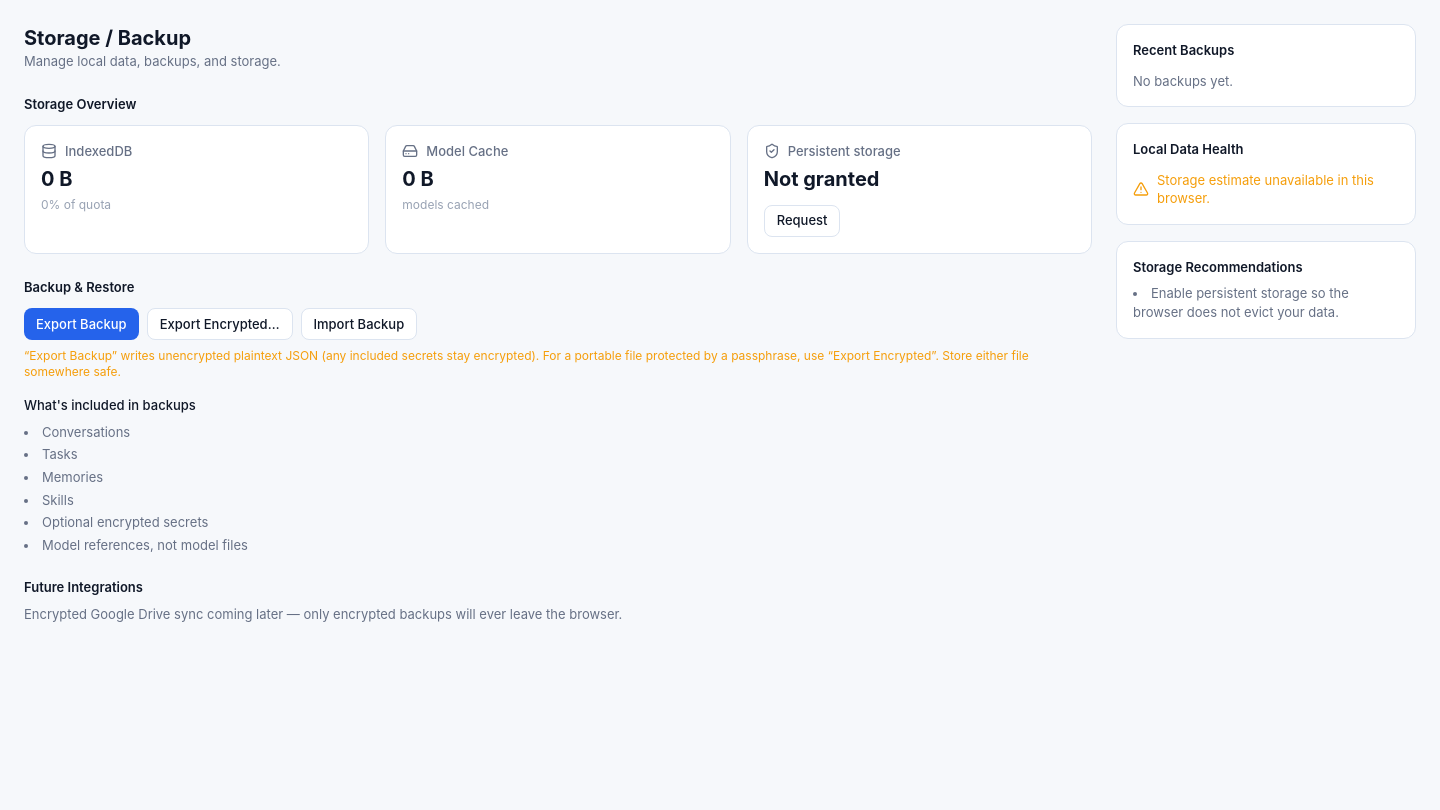
Test: StorageScreen › exports a backup over Dexie
Click the button "Export Backup": (81, 324) [24, 308, 139, 340]
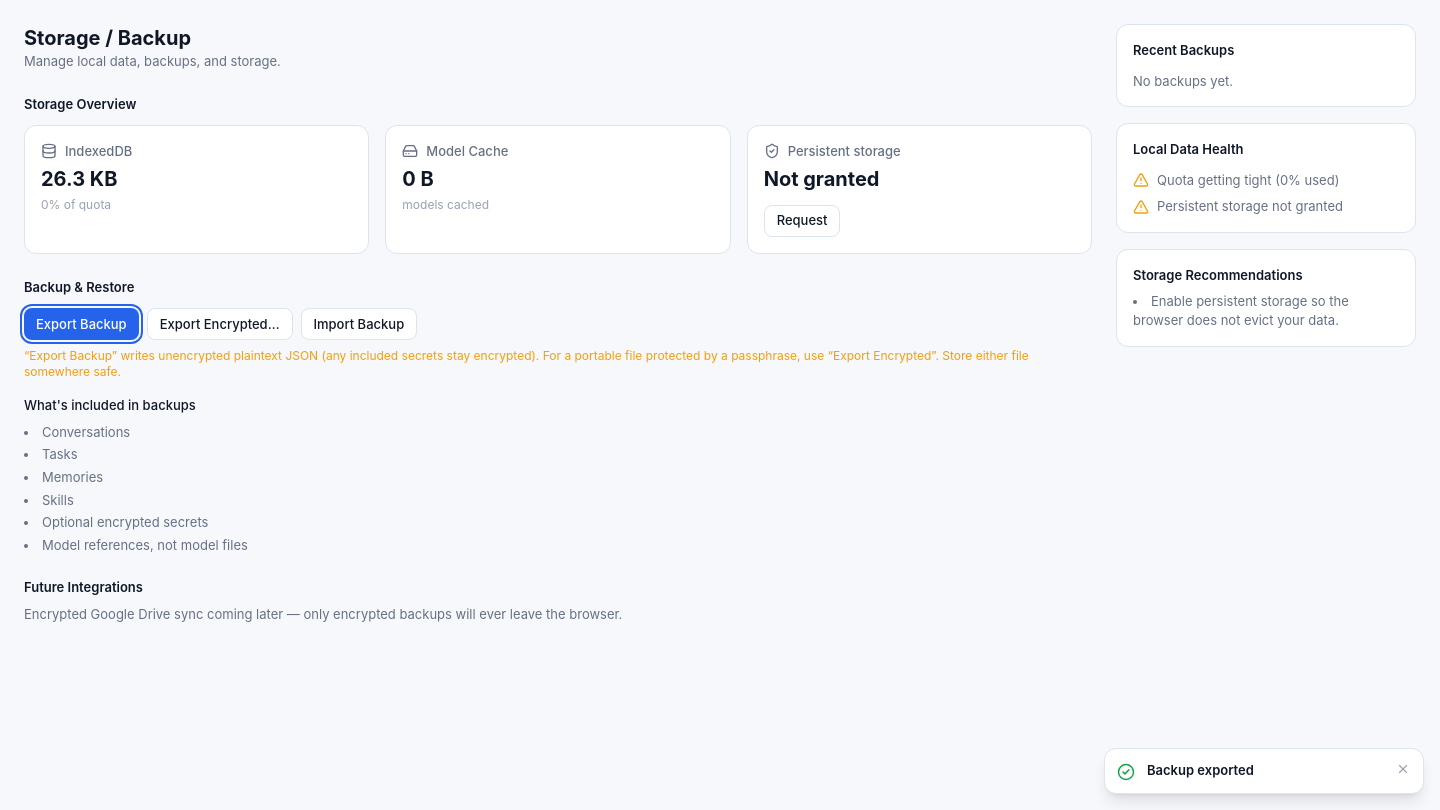
Now the text "Backup exported" is shown, box [1147, 762, 1254, 778]
